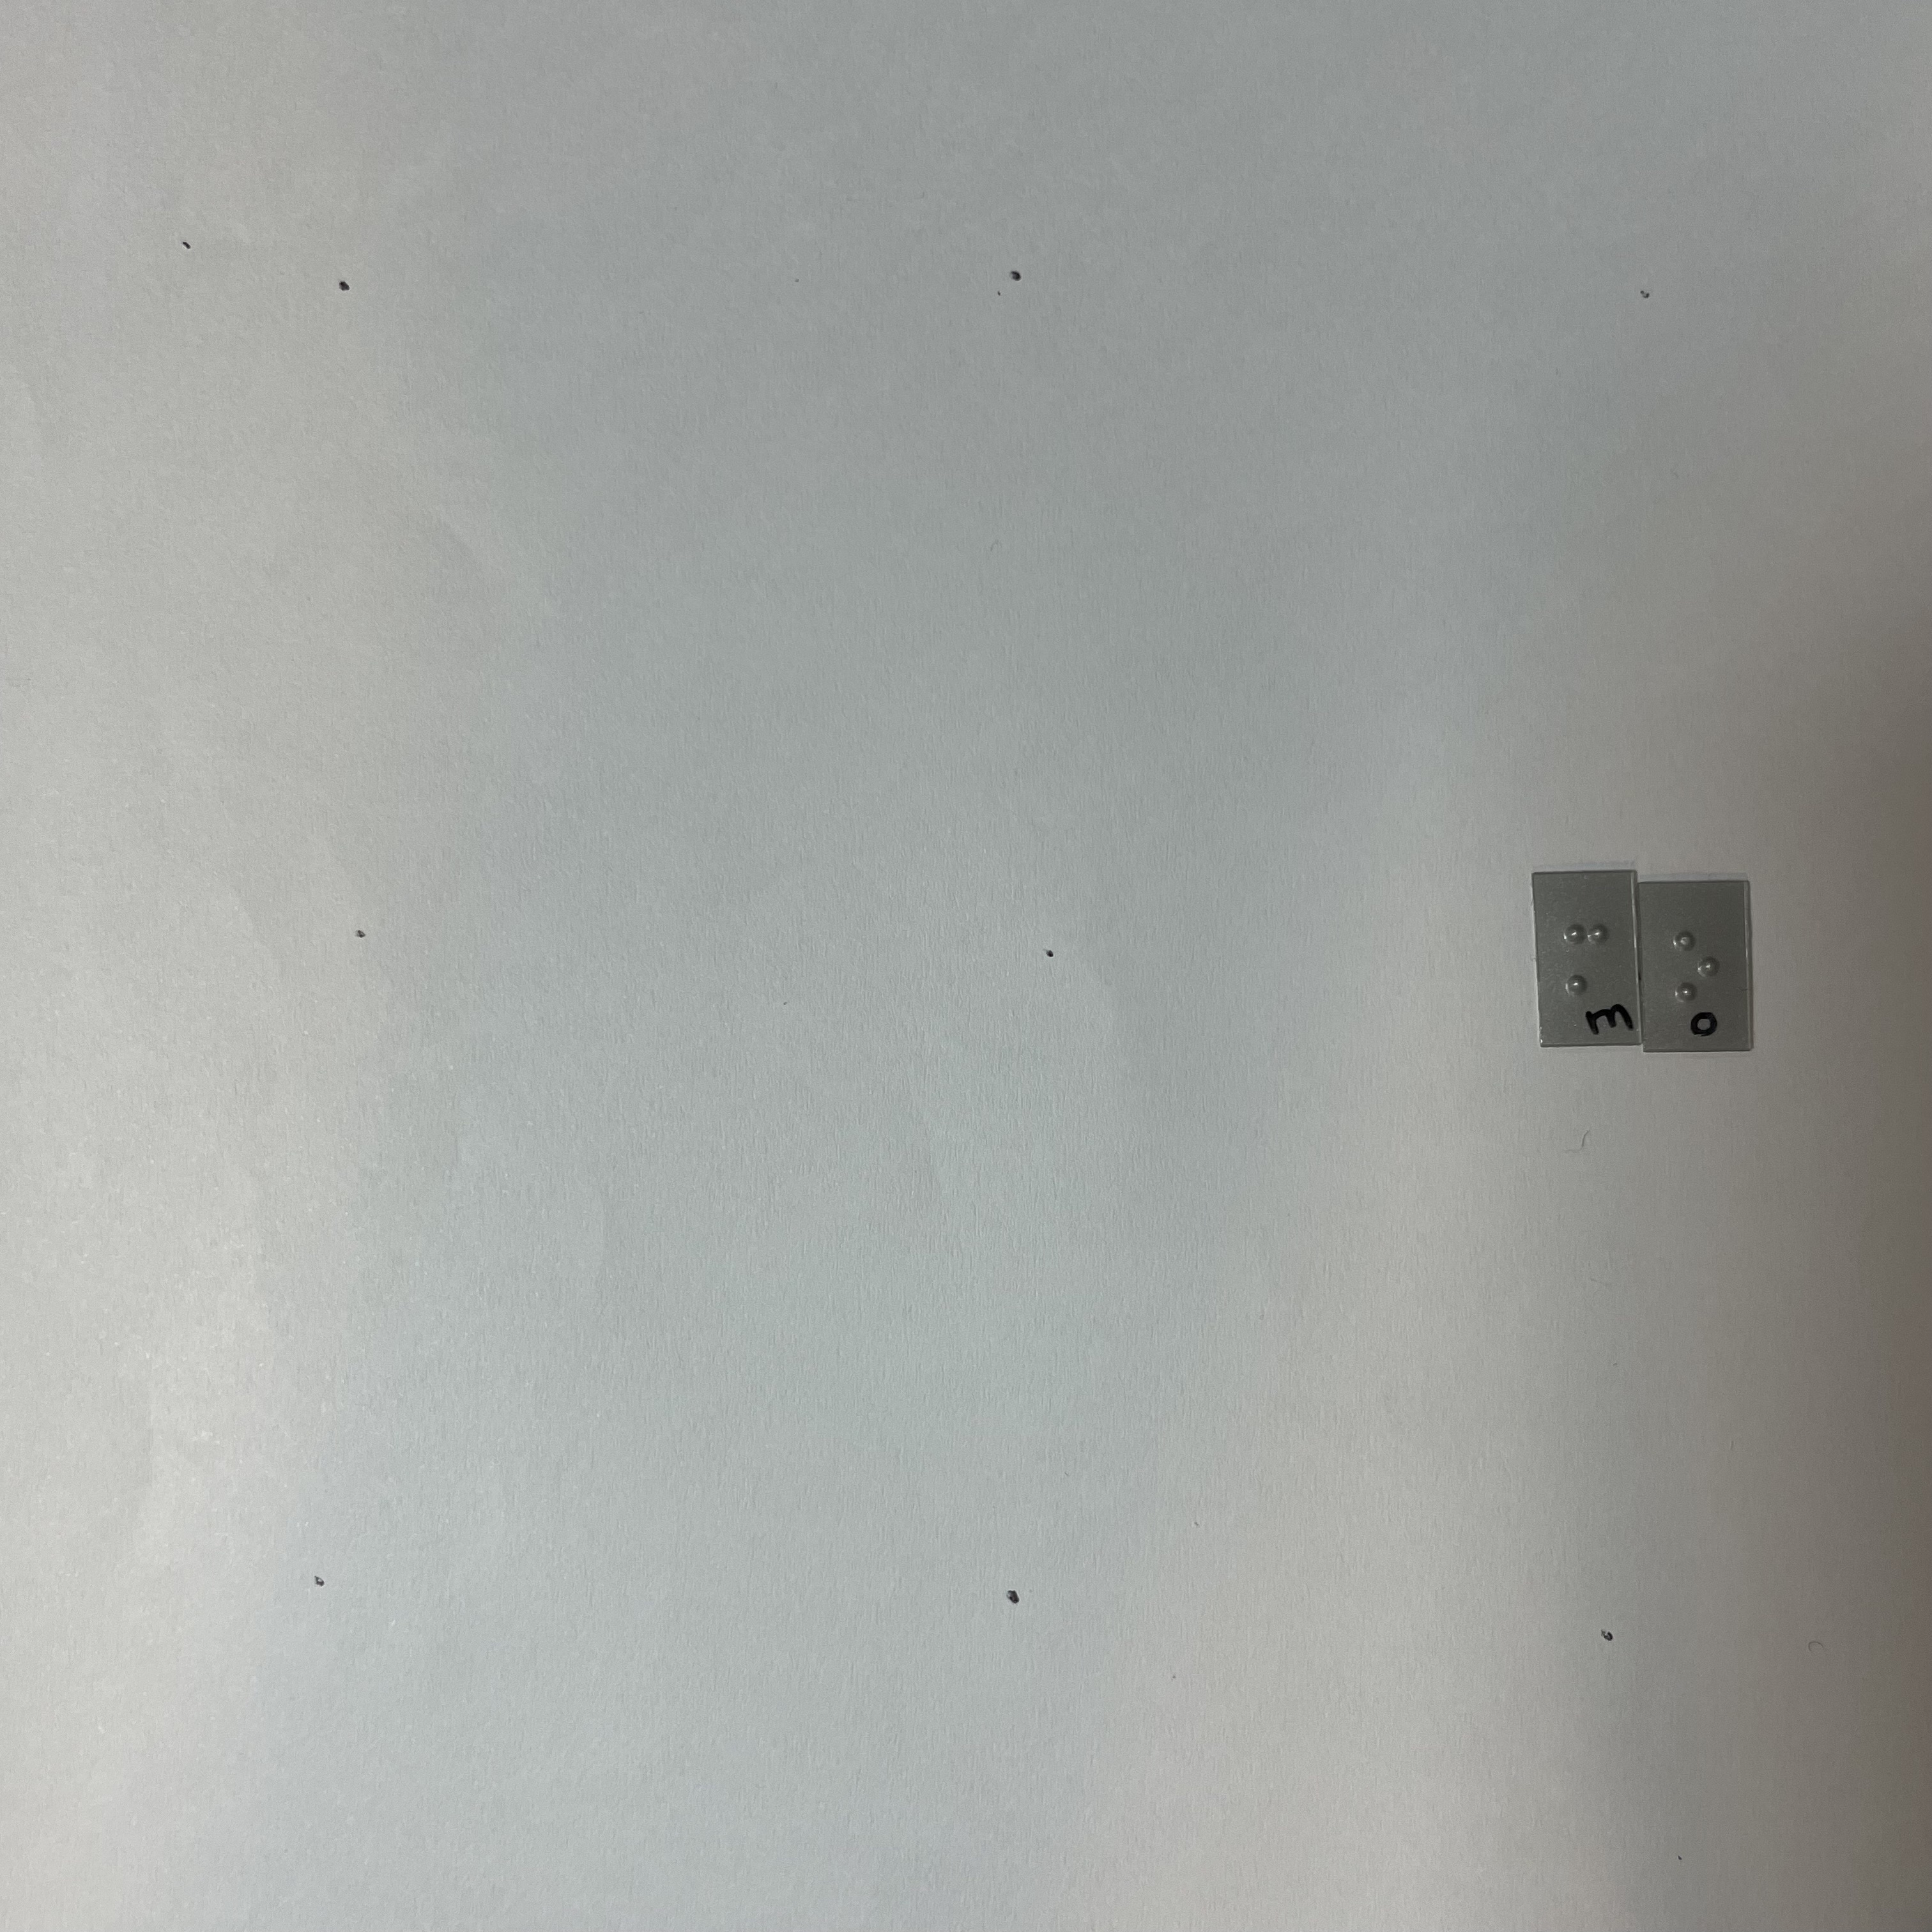m: (1563, 914, 1615, 995)
o: (1668, 921, 1723, 1002)
